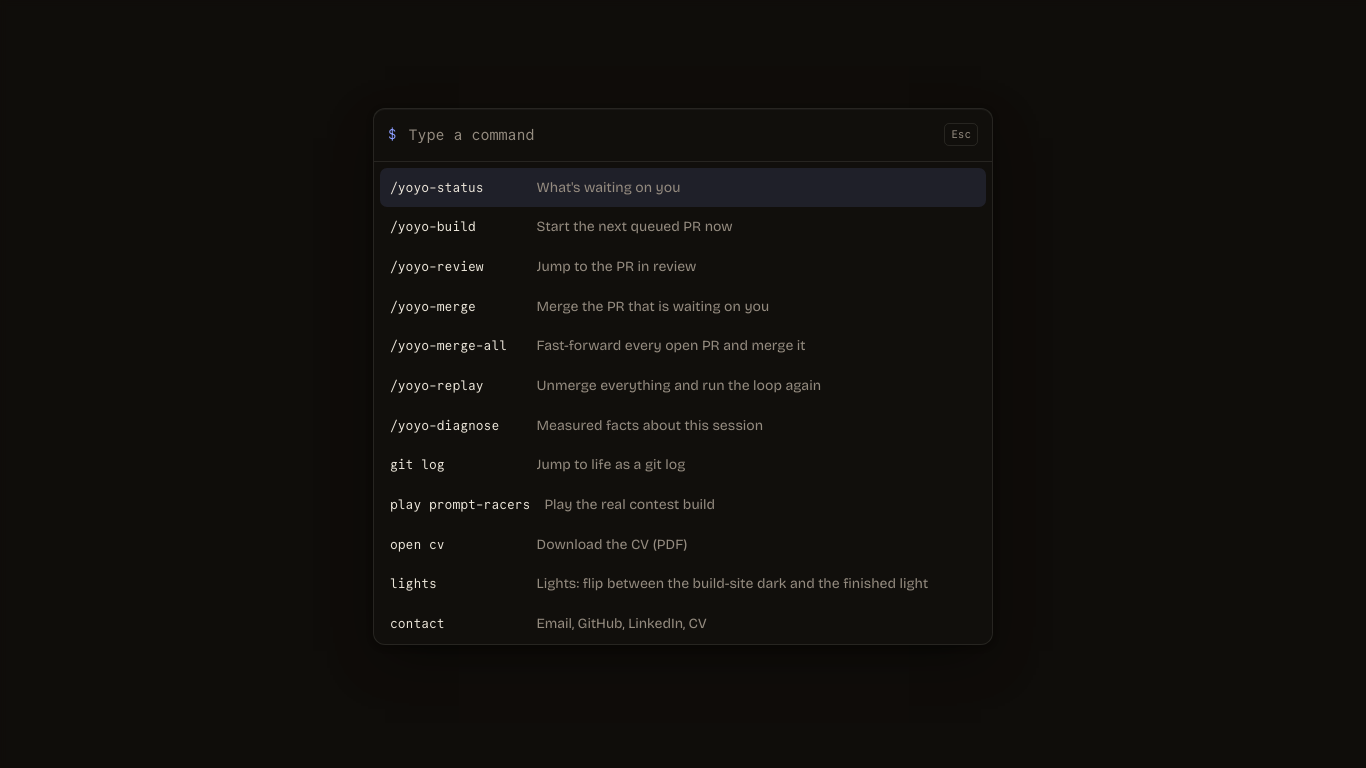
command palette › runs the top result when Enter comes straight after typing
The image size is (1366, 768).
Type "diagn" into the dropdown with placeholder "Type a command" at (670, 134), box [406, 108, 934, 160]
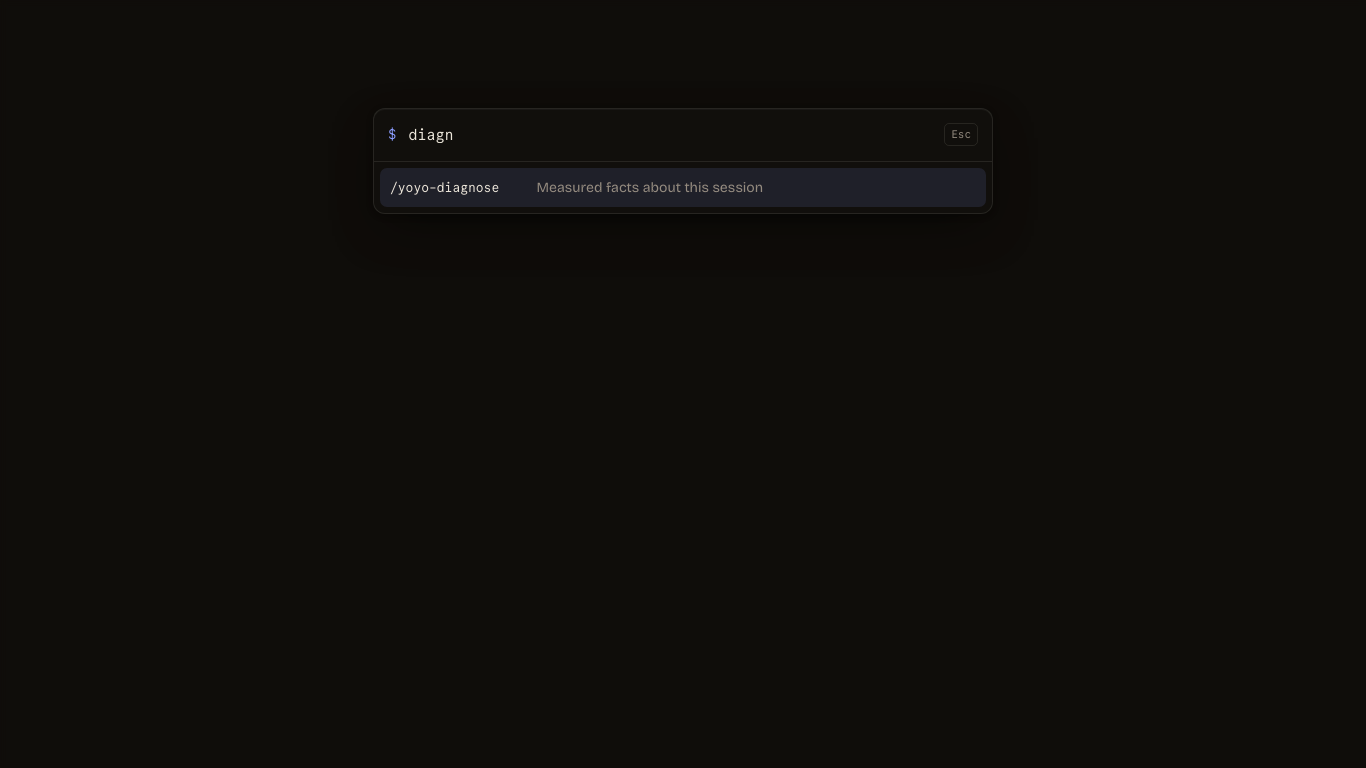
Press Enter in the dropdown, box [406, 108, 934, 160]
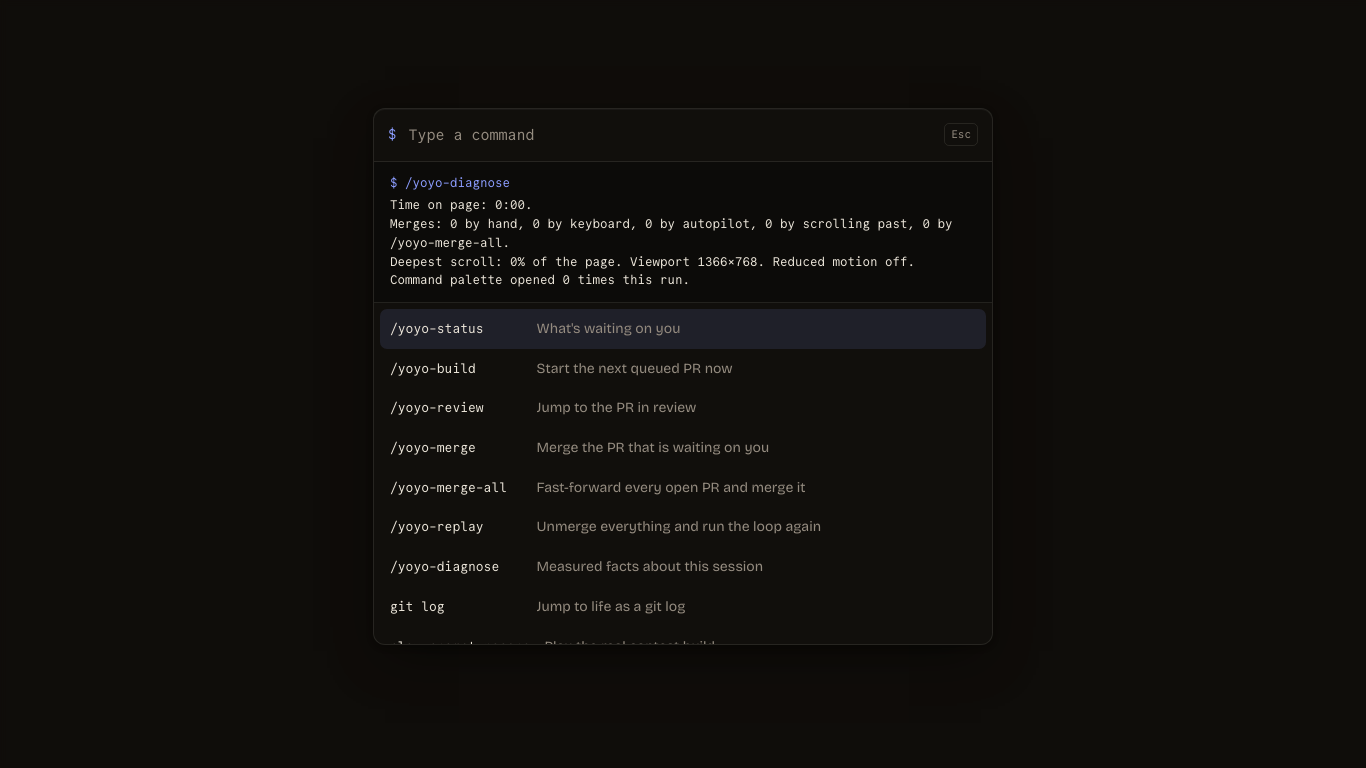
Check: the message shows "$ /yoyo-diagnose", box [374, 162, 992, 303]
Check: the message shows "Merges: 0 by hand", box [390, 217, 952, 250]
